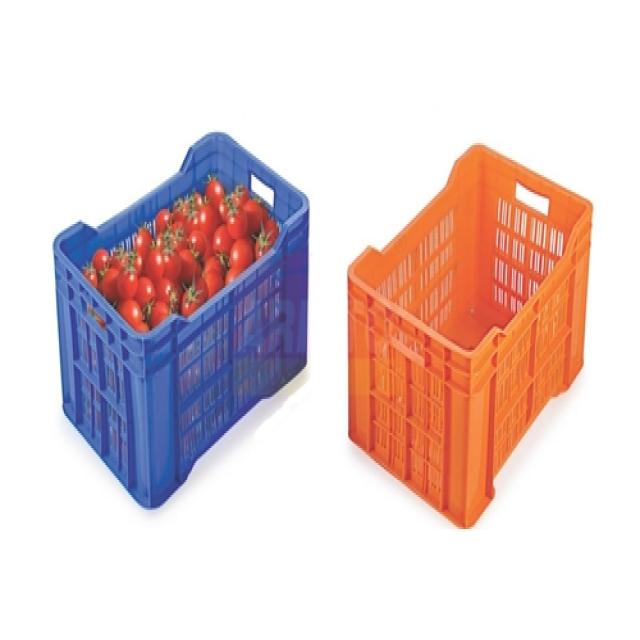basket: (0, 95, 395, 515)
